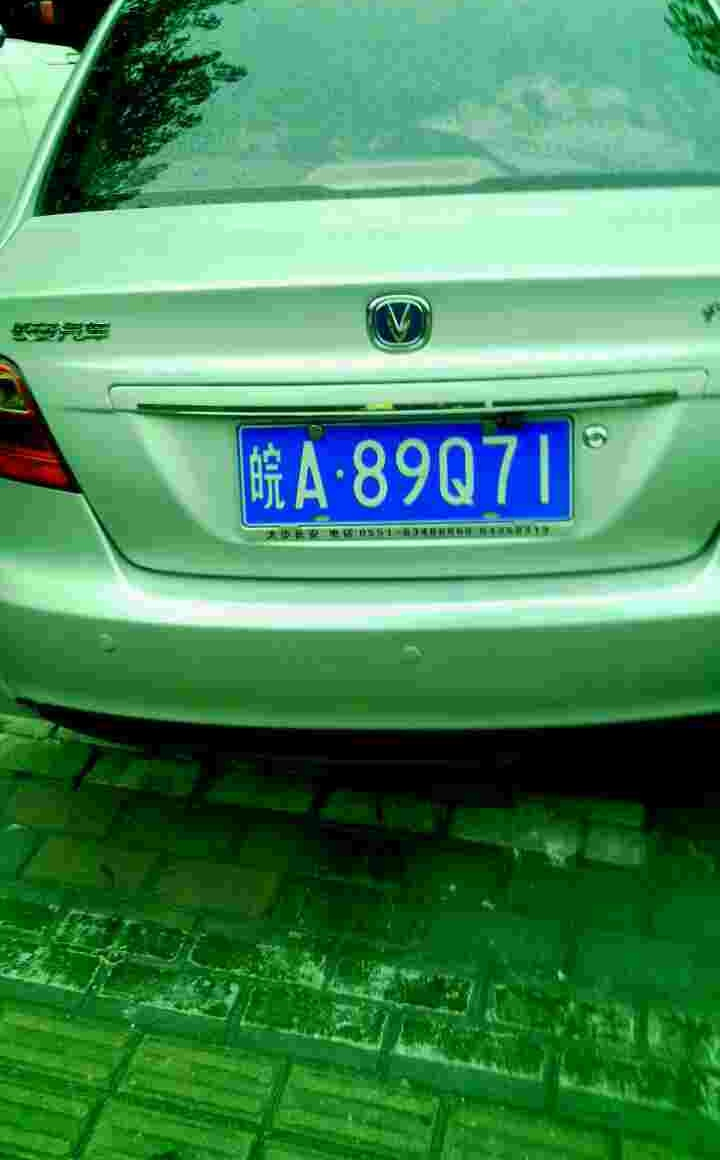license_plate: (231, 419, 567, 529)
